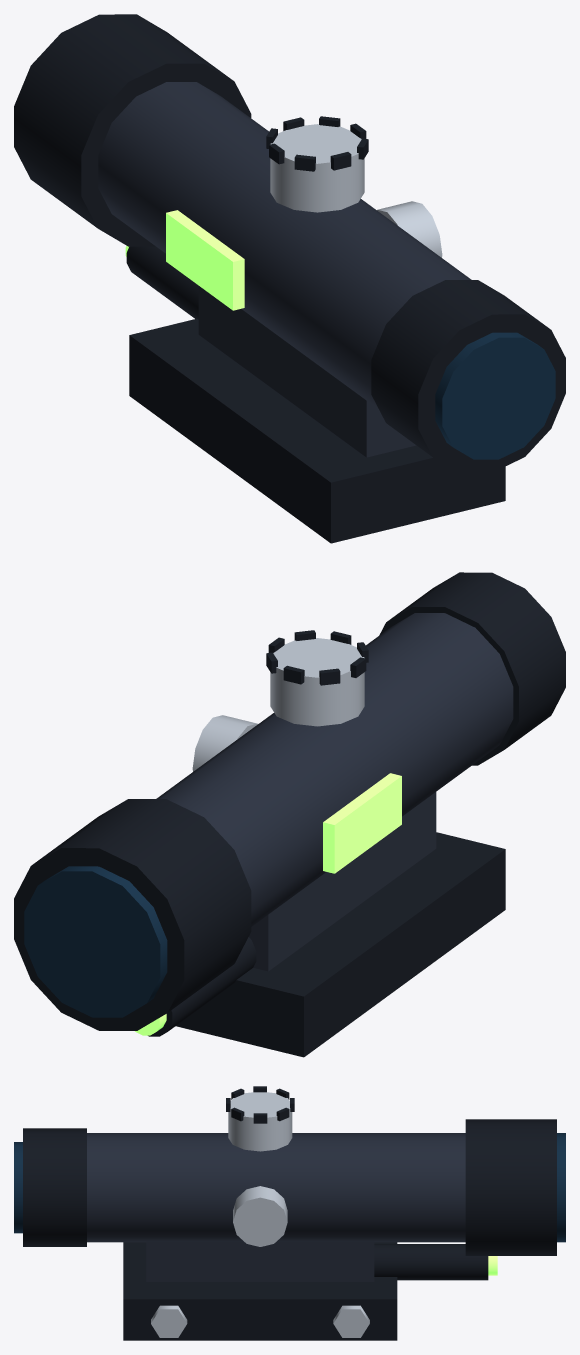
Rendered from attach_rangefinder.glb.
3 views of the same model, one above another, from view 1: azimuth 30°, elevation 25°; view 2: azimuth 150°, elevation 25°; view 3: azimuth 270°, elevation 25° (orthographic). The views are drawn at different scales.
Visible parts, largest first — view 1: attach_rangefinder_tube, attach_rangefinder_clamp, attach_rangefinder_objective, attach_rangefinder_ocular, attach_rangefinder_oc_glass, attach_rangefinder_riser, attach_rangefinder_dial, attach_rangefinder_readout, attach_rangefinder_laser, attach_rangefinder_side_dial; view 2: attach_rangefinder_tube, attach_rangefinder_clamp, attach_rangefinder_objective, attach_rangefinder_obj_glass, attach_rangefinder_ocular, attach_rangefinder_riser, attach_rangefinder_dial, attach_rangefinder_readout, attach_rangefinder_laser, attach_rangefinder_side_dial; view 3: attach_rangefinder_tube, attach_rangefinder_clamp, attach_rangefinder_objective, attach_rangefinder_riser, attach_rangefinder_ocular, attach_rangefinder_laser, attach_rangefinder_dial, attach_rangefinder_side_dial, attach_rangefinder_screws, attach_rangefinder_obj_glass, attach_rangefinder_oc_glass.
Part boxes in pixels (bbox=[...]): attach_rangefinder_tube: bbox=[98, 82, 471, 409]; attach_rangefinder_clamp: bbox=[129, 318, 505, 543]; attach_rangefinder_objective: bbox=[14, 14, 251, 246]; attach_rangefinder_ocular: bbox=[371, 280, 565, 472]; attach_rangefinder_oc_glass: bbox=[435, 332, 555, 459]; attach_rangefinder_riser: bbox=[198, 286, 416, 457]; attach_rangefinder_dial: bbox=[270, 124, 364, 212]; attach_rangefinder_readout: bbox=[166, 210, 244, 310]; attach_rangefinder_laser: bbox=[126, 246, 198, 319]; attach_rangefinder_side_dial: bbox=[377, 201, 442, 257]; attach_rangefinder_tube: bbox=[156, 613, 513, 926]; attach_rangefinder_clamp: bbox=[176, 832, 505, 1057]; attach_rangefinder_objective: bbox=[14, 799, 251, 1030]; attach_rangefinder_obj_glass: bbox=[24, 866, 167, 1017]; attach_rangefinder_ocular: bbox=[379, 572, 565, 765]; attach_rangefinder_riser: bbox=[248, 792, 436, 971]; attach_rangefinder_dial: bbox=[270, 638, 364, 726]; attach_rangefinder_readout: bbox=[323, 773, 401, 873]; attach_rangefinder_laser: bbox=[148, 937, 256, 1036]; attach_rangefinder_side_dial: bbox=[192, 715, 257, 771]; attach_rangefinder_tube: bbox=[87, 1133, 465, 1242]; attach_rangefinder_clamp: bbox=[123, 1242, 397, 1340]; attach_rangefinder_objective: bbox=[465, 1119, 556, 1255]; attach_rangefinder_riser: bbox=[146, 1241, 374, 1281]; attach_rangefinder_ocular: bbox=[23, 1128, 86, 1246]; attach_rangefinder_laser: bbox=[374, 1244, 488, 1280]; attach_rangefinder_dial: bbox=[228, 1092, 292, 1151]; attach_rangefinder_side_dial: bbox=[233, 1186, 287, 1246]; attach_rangefinder_screws: bbox=[151, 1305, 369, 1337]; attach_rangefinder_obj_glass: bbox=[557, 1133, 565, 1242]; attach_rangefinder_oc_glass: bbox=[14, 1142, 22, 1233].
Size of the model in its own units: 0.033 by 0.051 by 0.121.
